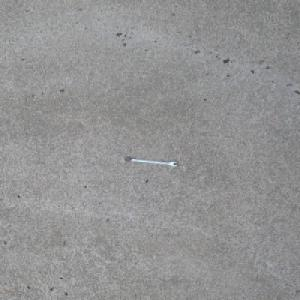Wrench: (122, 157, 178, 166)
